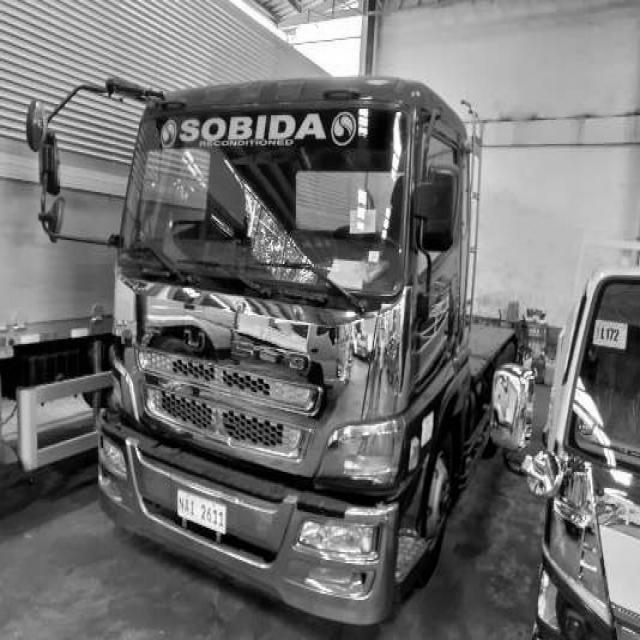truck: (23, 62, 521, 630)
